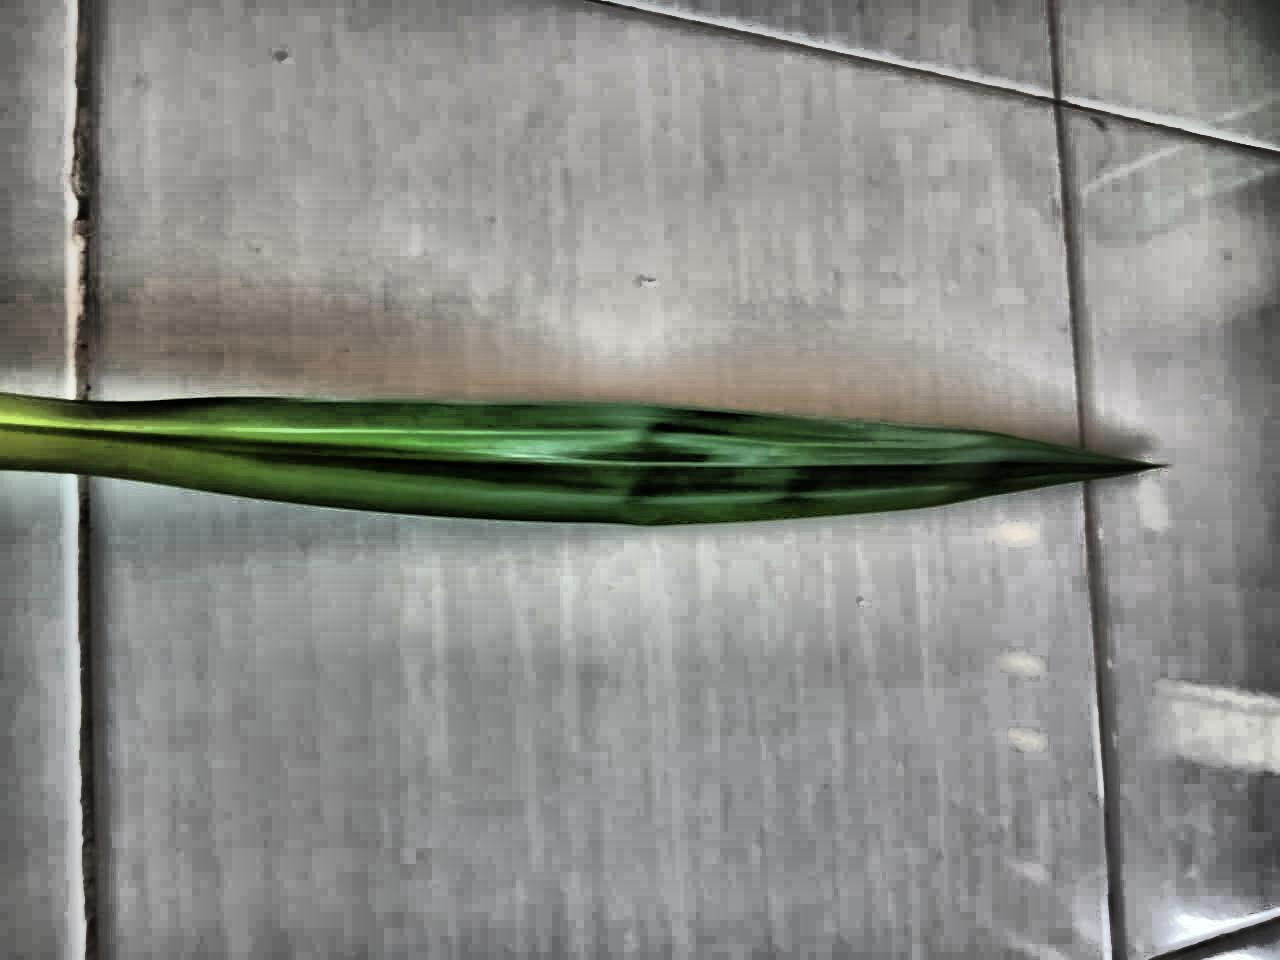daun pandan: (0, 393, 1153, 525)
